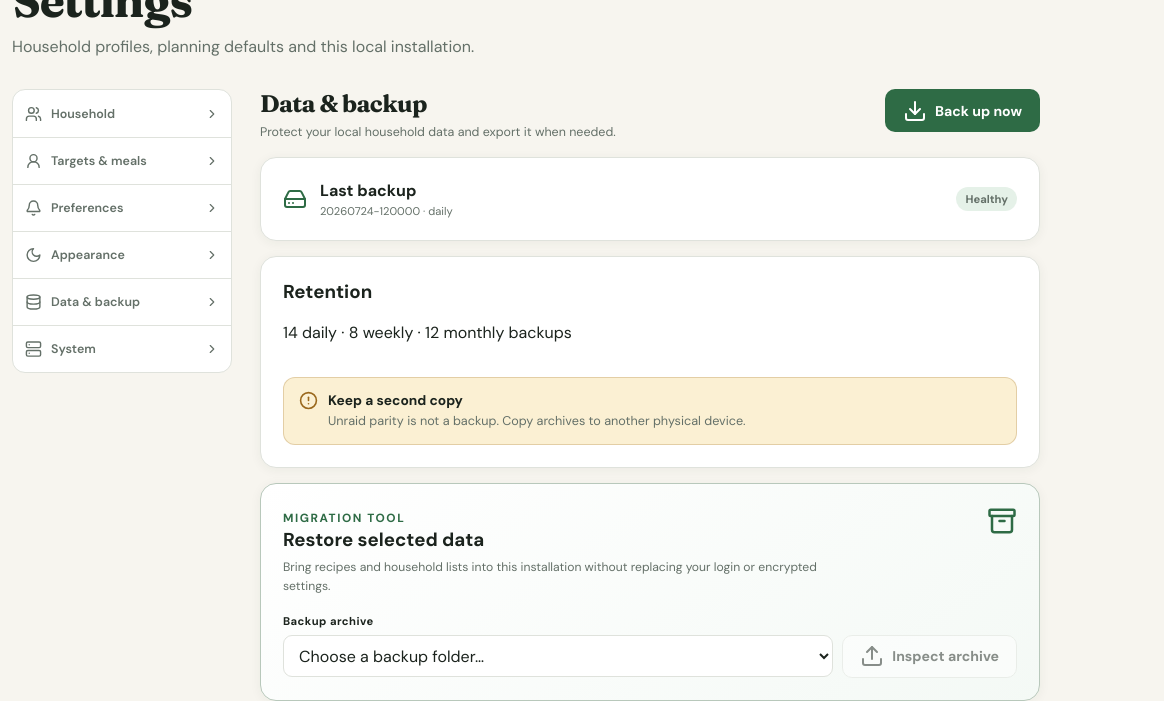
it: DataSettings selective restore › previews an archive and restores only the checked domains
The width and height of the screenshot is (1164, 701).
(page scrolled)
Select "20260724-120000 · daily" in the dropdown labelled "Backup archive" at (558, 656), box left=283, top=635, right=833, bottom=677
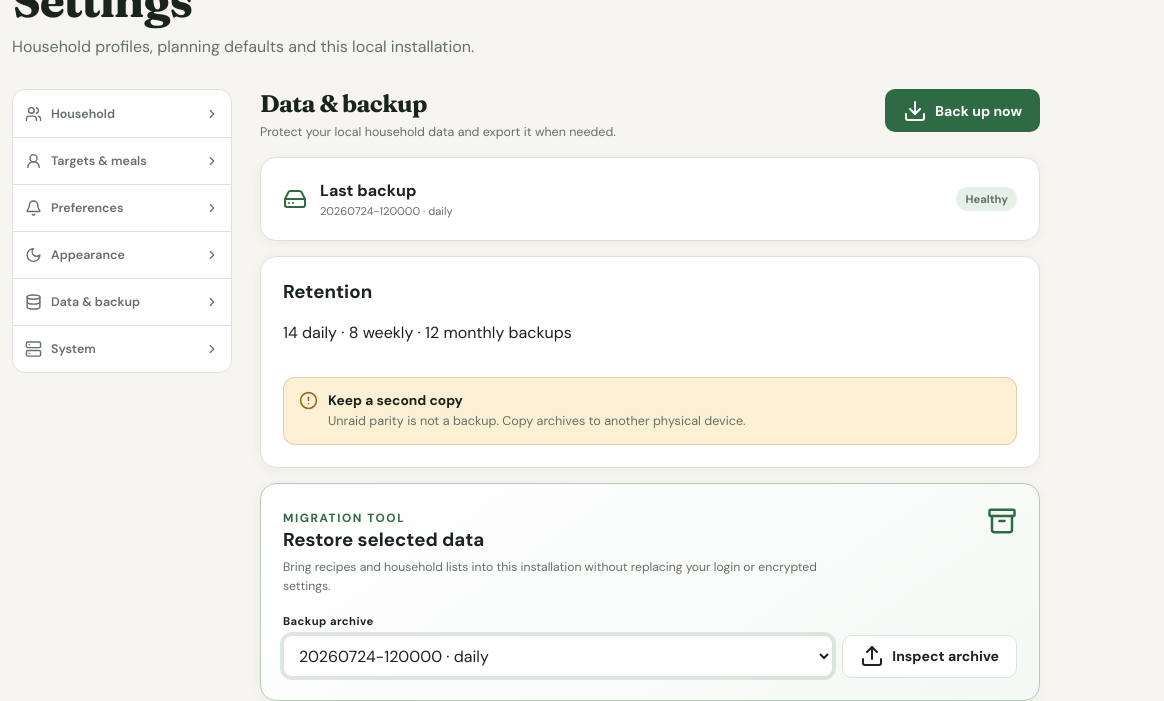
Click the button "Inspect archive" at (930, 656), box left=842, top=635, right=1017, bottom=678
(page scrolled)
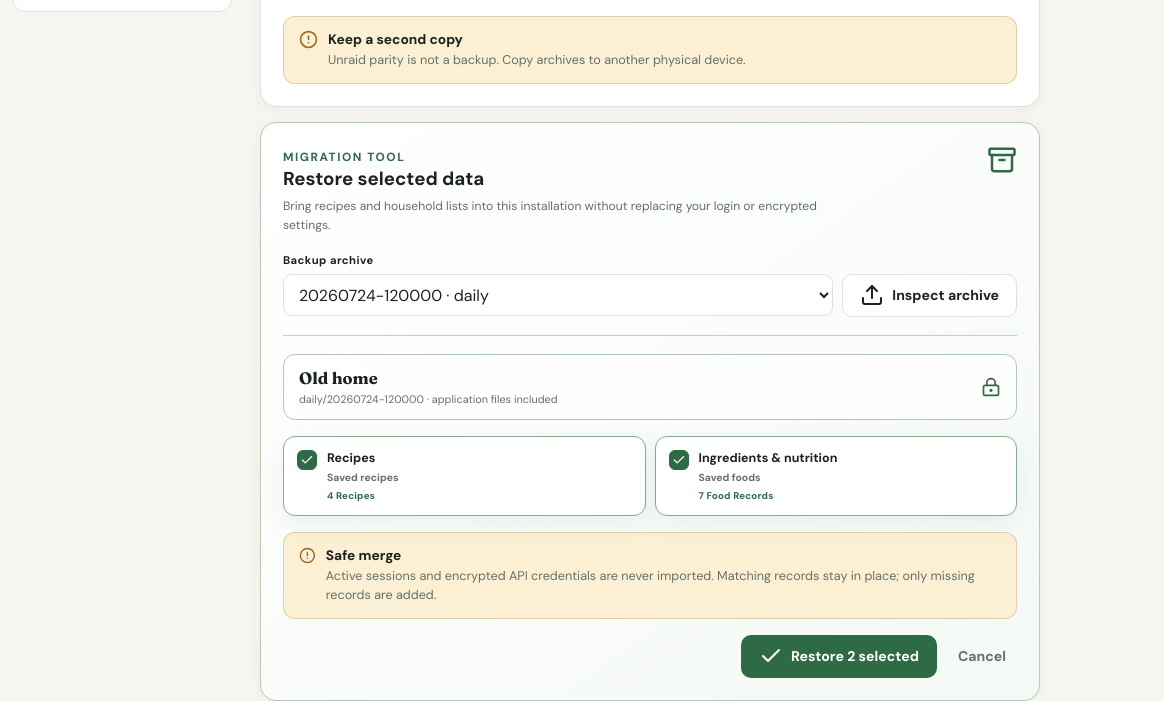
Expected: the text "Old home" is shown, left=299, top=368, right=378, bottom=388
Expected: the checkbox labelled "Recipes Saved recipes 4 recipes" is checked, left=283, top=436, right=646, bottom=516
Expected: the checkbox labelled "Ingredients & nutrition Saved foods 7 food records" is checked, left=654, top=436, right=1017, bottom=516
Click the button "Restore 2 selected" at (839, 656), box left=741, top=635, right=937, bottom=678
(page scrolled)
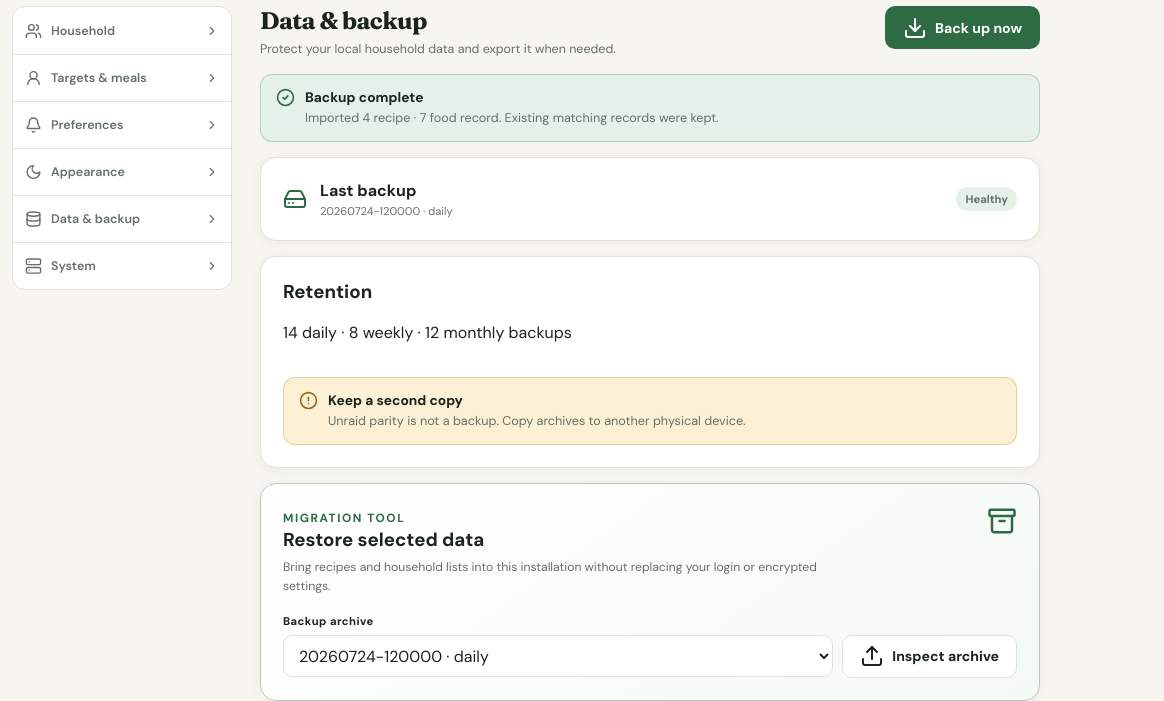
Expected: the text "Imported 4 recipe" is shown, left=305, top=109, right=719, bottom=126
